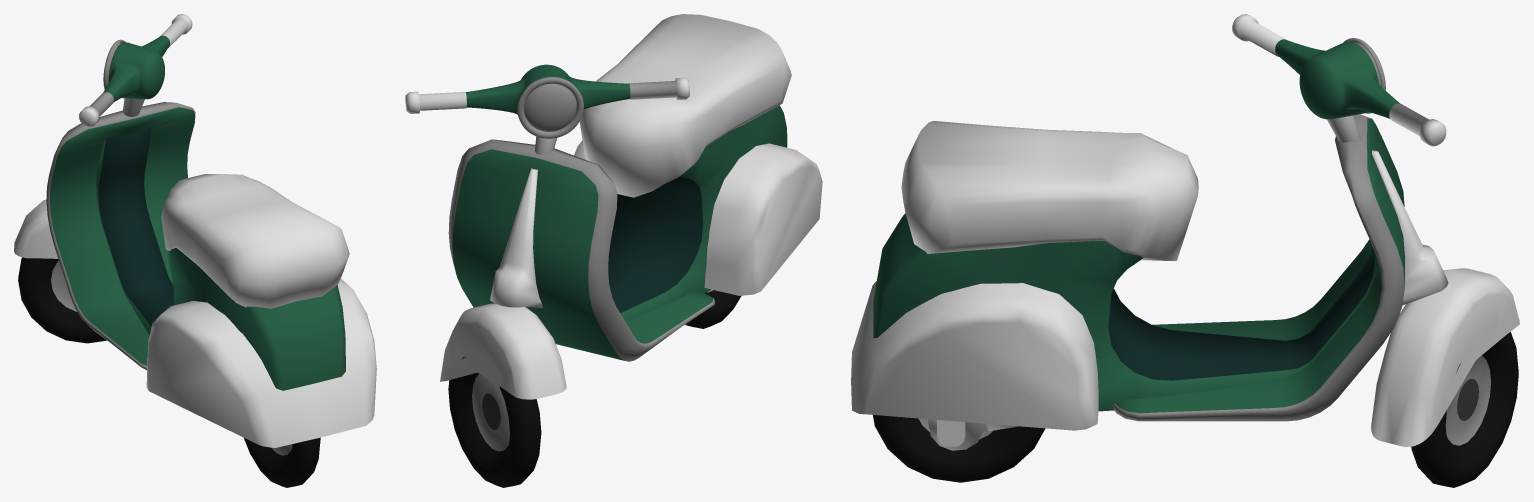
The model's file is Moped_b.fbx.
The picture shows the model from 3 angles, left to right: view 1: azimuth 30°, elevation 25°; view 2: azimuth 150°, elevation 25°; view 3: azimuth 270°, elevation 25°; orthographic projection. The views are drawn at different scales.
Visible parts, largest first — view 1: Moped, Headlights_Frame_Chassis_0, Cylinder.001; view 2: Moped, Headlights_Frame_Chassis_0, Cylinder.001; view 3: Moped, Headlights_Frame_Chassis_0, Cylinder.001.
Part boxes in pixels (<box>): Moped: <box>14,102,376,487</box>; Headlights_Frame_Chassis_0: <box>103,35,169,102</box>; Cylinder.001: <box>79,14,192,126</box>; Moped: <box>440,14,822,487</box>; Headlights_Frame_Chassis_0: <box>466,64,630,138</box>; Cylinder.001: <box>405,77,689,113</box>; Moped: <box>851,114,1519,487</box>; Headlights_Frame_Chassis_0: <box>1275,38,1399,119</box>; Cylinder.001: <box>1232,14,1446,146</box>.
Bounding box in the file's own units: 0.7386 × 1.8 × 1.29.
